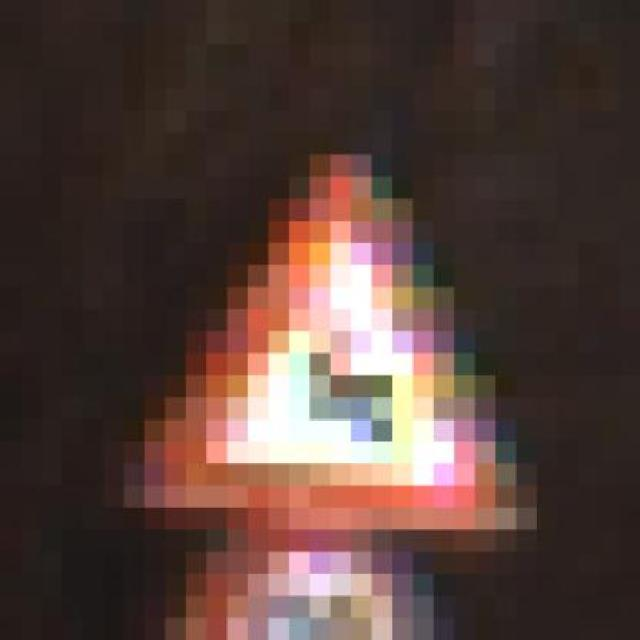Left Zig Zag Traffic: (124, 132, 516, 552)
